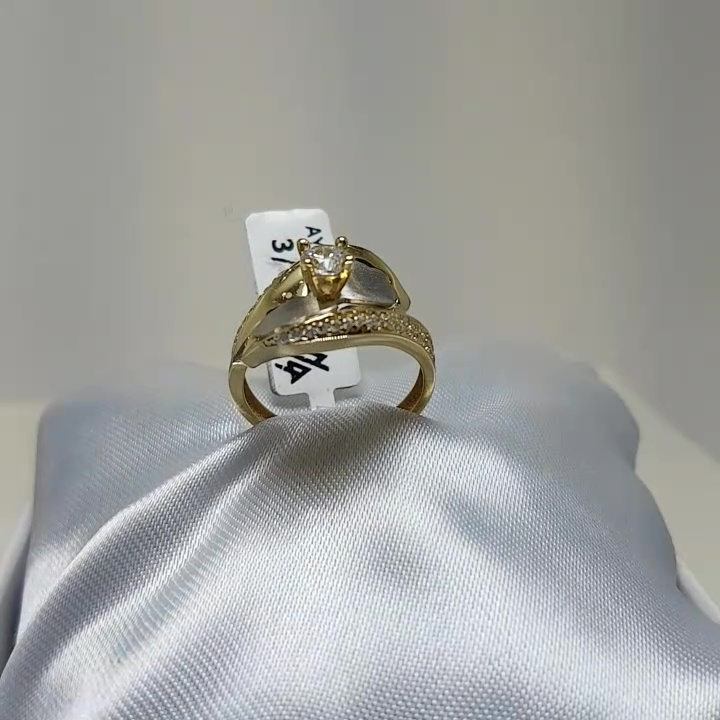Ring 6: (193, 225, 460, 455)
